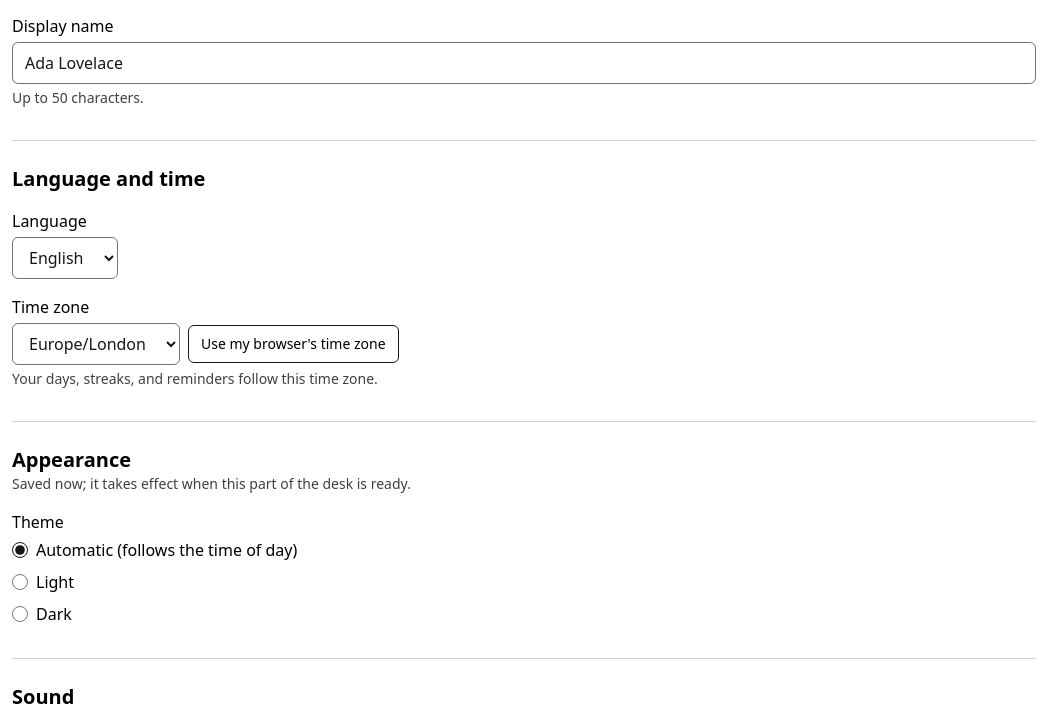
Scenario: saves the edited settings and announces it
The image size is (1048, 713).
Step 1. Replace the text in the field labelled "Display name" with "Ada" → (524, 63), box 12,42 -> 1036,84
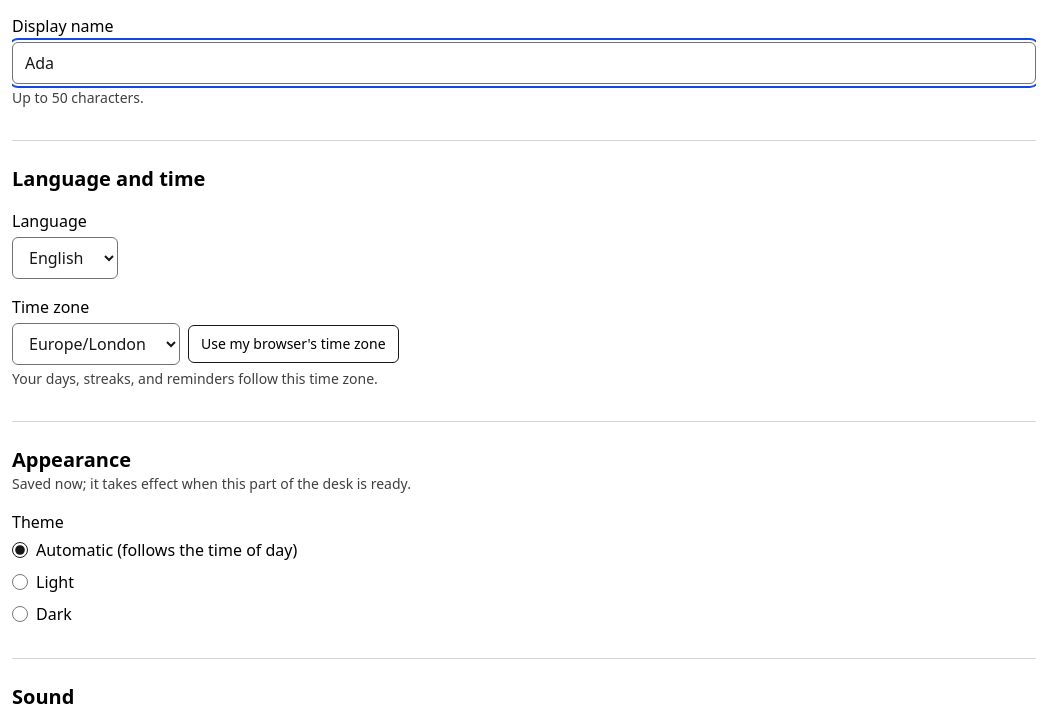
Step 2. Click the radio button labelled "Dark" → (20, 614), box 12,606 -> 28,622
(page scrolled)
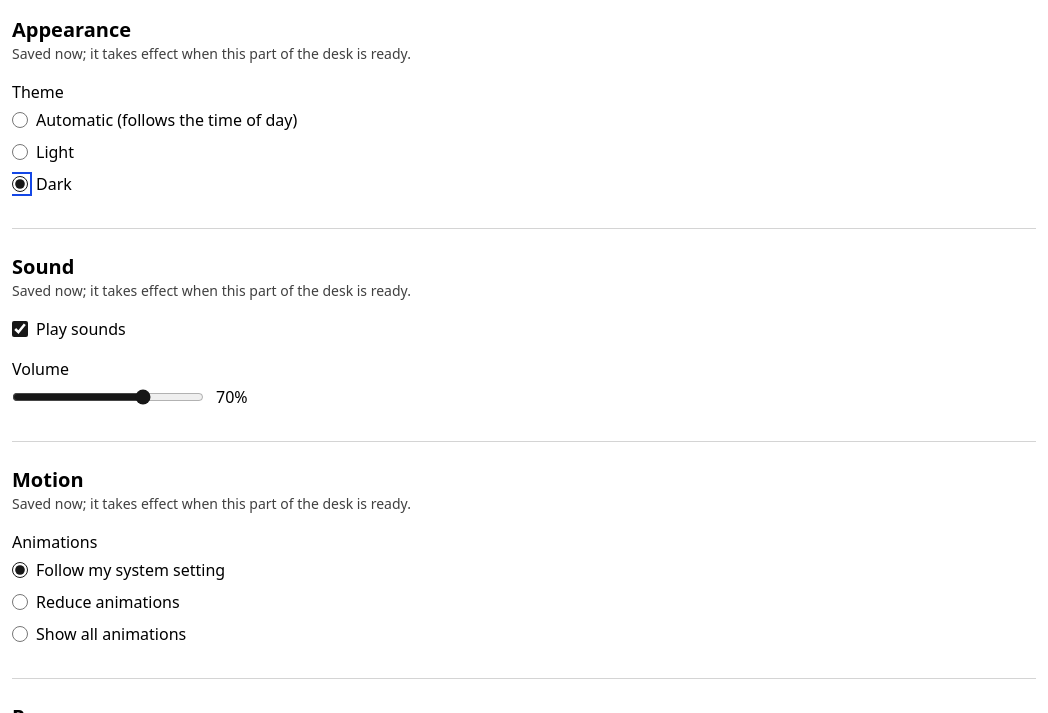
Step 3. Click the checkbox labelled "Play sounds" → (20, 329), box 12,321 -> 28,337
(page scrolled)
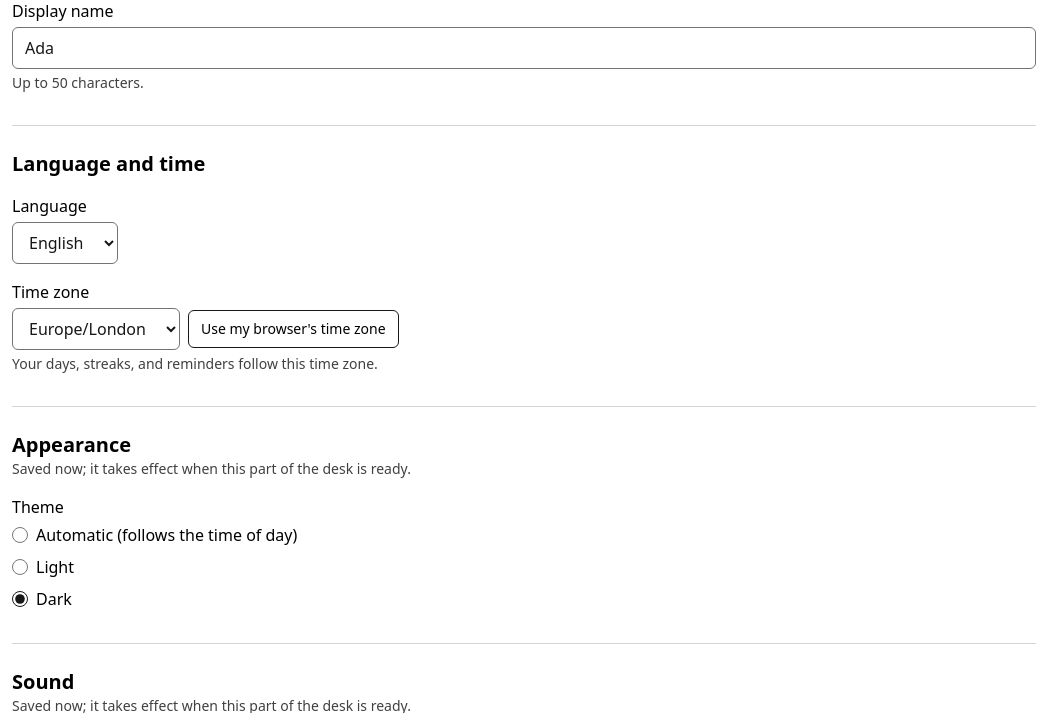
Step 4. Select "Europe/Madrid" in the dropdown labelled "Time zone" → (96, 329), box 12,308 -> 180,350
(page scrolled)
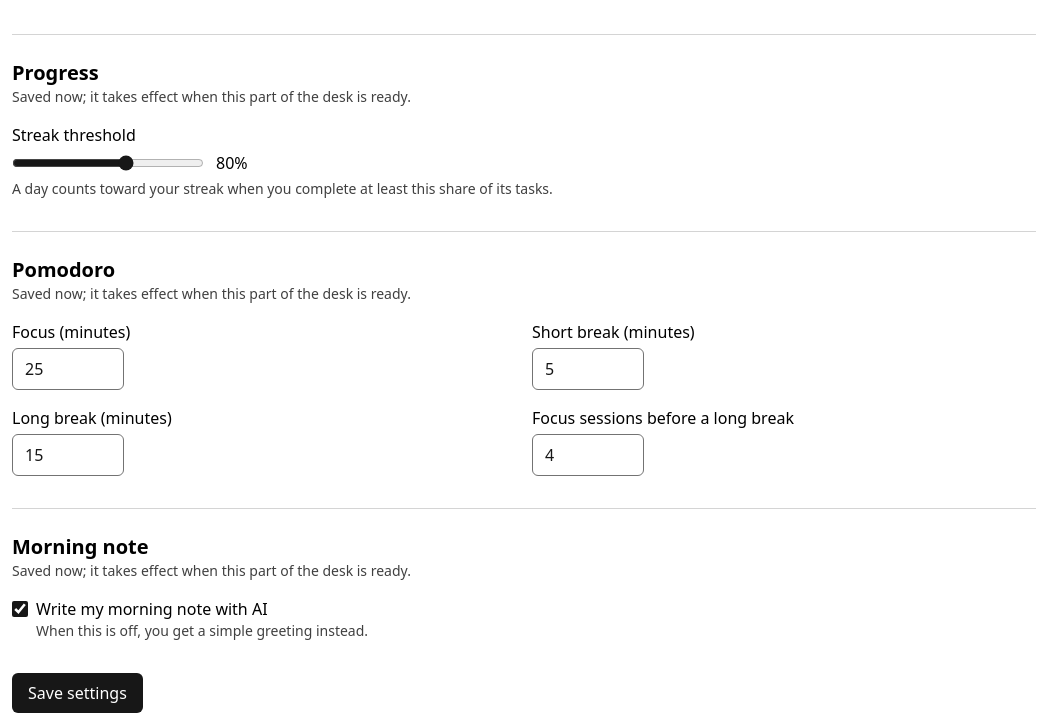
Step 5. Click the button "Save settings" → (77, 693), box 12,673 -> 143,712
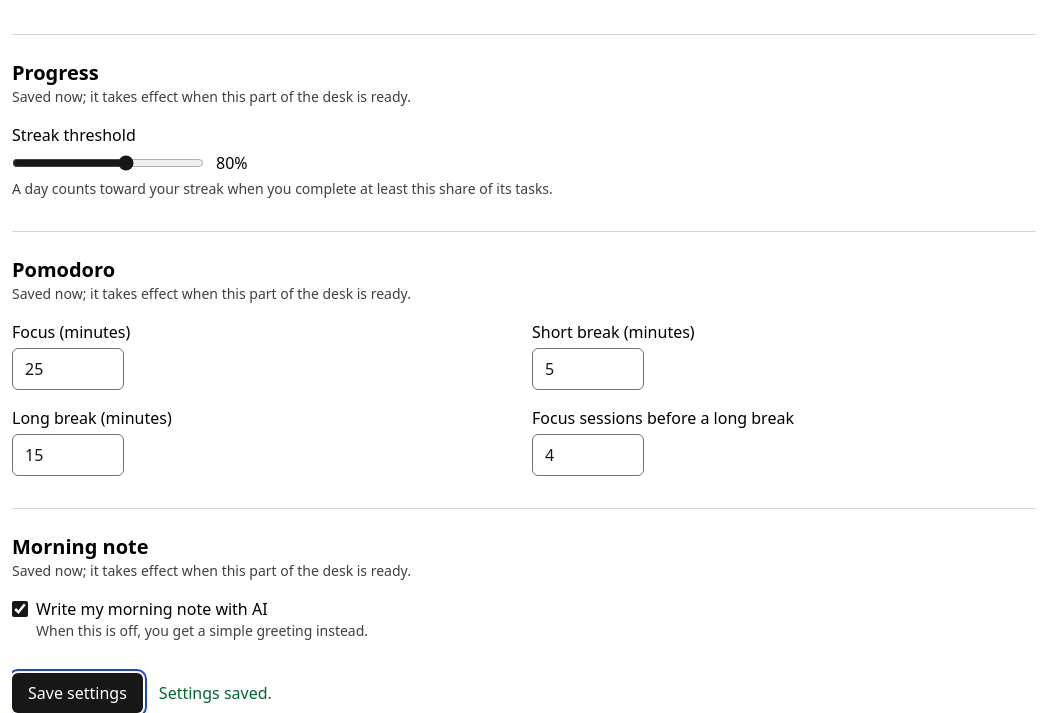
Result: the message reads "Settings saved." at 159,682 -> 272,704
